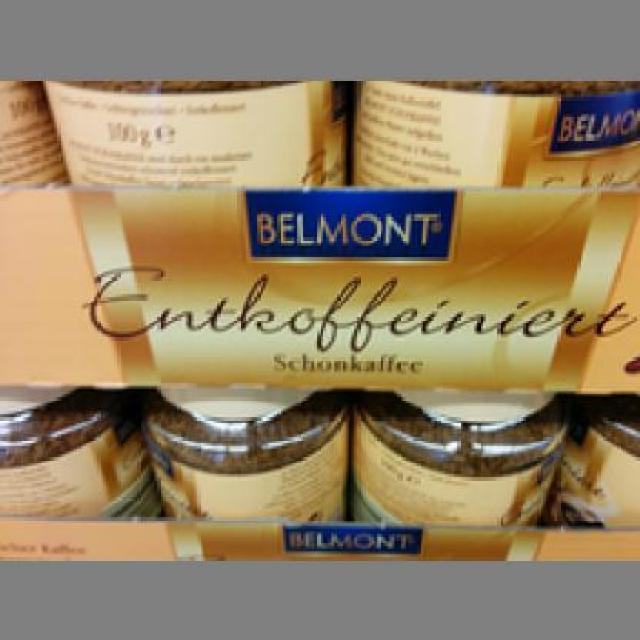Coffee: (343, 380, 568, 517), (132, 380, 348, 514), (0, 384, 155, 515)
